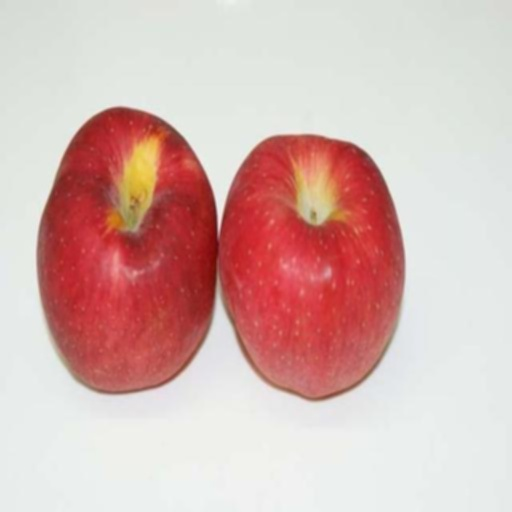fruit: (102, 128, 352, 486), (13, 132, 71, 480)
